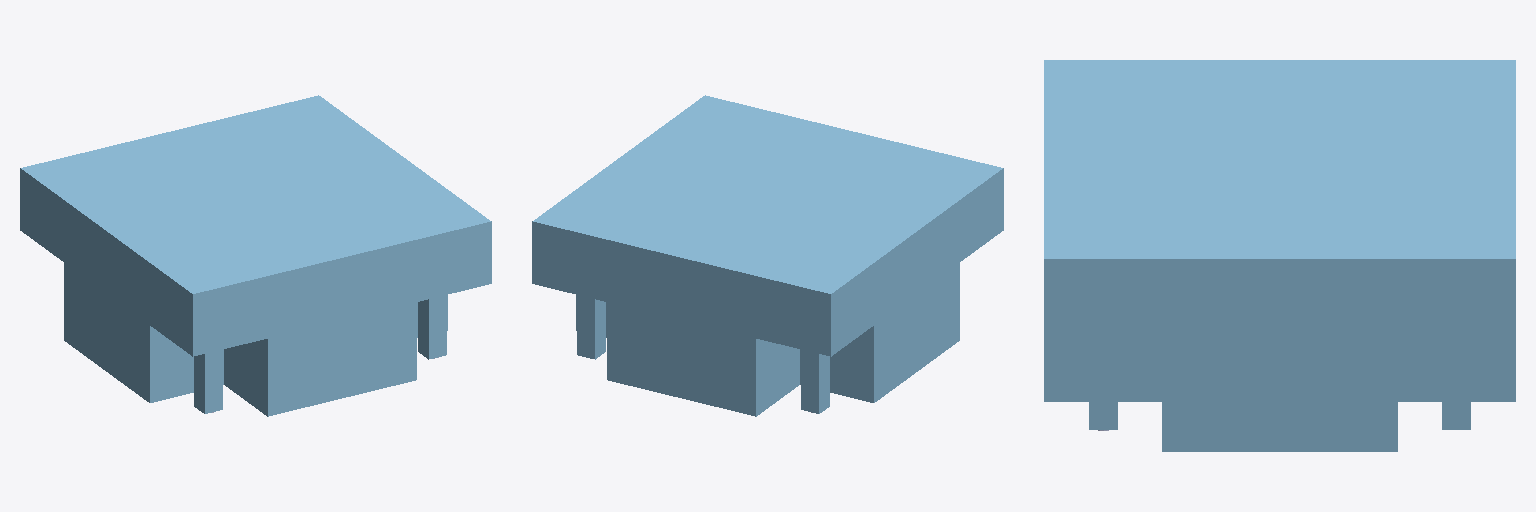
URDF robot description (mobile_base):
<?xml version="1.0" encoding="utf-8"?>
<!-- This URDF was automatically created by SolidWorks to URDF Exporter! Originally created by [author] ([email redacted]) 
     Commit Version: 1.6.0-4-g7f85cfe  Build Version: 1.6.7995.38578
     For more information, please see http://wiki.ros.org/sw_urdf_exporter -->
<robot
  name="mobile_base">
  <link
    name="base_link"> 
    <inertial>
      <origin
        xyz="0 0 0.3"
        rpy="0 0 0" />
      <mass
        value="100"/>
      <inertia
        ixx="10"
        ixy="0.0"
        ixz="0.0"
        iyy="10"
        iyz="0.0"
        izz="10" />
    </inertial>
    <visual>
      <origin
        xyz="0 0 0.3"
        rpy="0 0 0" />
      <geometry>
        <mesh
          filename="package://mobile_base/meshes/base_link.STL" />
      </geometry>
      <material
        name="">
        <color
          rgba="0.615686274509804 0.811764705882353 0.929411764705882 1" />
      </material>
    </visual>
    <collision>
      <origin
        xyz="0 0 0.3"
        rpy="0 0 0" />
      <geometry>
        <mesh
          filename="package://mobile_base/meshes/base_link.STL" />
      </geometry>
    </collision>
  </link>
  <link
    name="f_l_prismatic">
    <inertial>
      <origin
        xyz="-0.3 -0.3 0.107"
        rpy="0 0 0" />
      <mass
        value="0.63" />
      <inertia
        ixx="0.0"
        ixy="0.0"
        ixz="0.0"
        iyy="0.0"
        iyz="0.0"
        izz="0.0" />
    </inertial>
    <visual>
      <origin
        xyz="-0.3 -0.3 0.107"
        rpy="0 0 0" />
      <geometry>
        <mesh
          filename="package://mobile_base/meshes/f_l_prismatic.STL" />
      </geometry>
      <material
        name="">
        <color
          rgba="0.792156862745098 0.819607843137255 0.933333333333333 1" />
      </material>
    </visual>
    <collision>
      <origin
        xyz="-0.3 -0.3 0.107"
        rpy="0 0 0" />
      <geometry>
        <mesh
          filename="package://mobile_base/meshes/f_l_prismatic.STL" />
      </geometry>
    </collision>
  </link>
  <joint
    name="f_l_prismatic_joint"
    type="prismatic">
    <origin
      xyz="0.3 0.3 0.3"
      rpy="0 0 0" />
    <parent
      link="base_link" />
    <child
      link="f_l_prismatic" />
    <axis
      xyz="0 0 1" />
    <limit
      lower="-0.25"
      upper="0.2"
      effort="100000"
      velocity="100" />
    
  </joint>
  <link
    name="f_l_rotate">
    <inertial>
      <origin
        xyz="0 5.55111512312578E-17 -0.0361269533146127"
        rpy="0 0 0" />
      <mass
        value="0.35" />
      <inertia
        ixx="01"
        ixy="0.0"
        ixz="0.0"
        iyy="1"
        iyz="0.0"
        izz="0.0" />
    </inertial>
    <visual>
      <origin
        xyz="0 0 0"
        rpy="0 0 0" />
      <geometry>
        <mesh
          filename="package://mobile_base/meshes/f_l_rotate.STL" />
      </geometry>
      <material
        name="">
        <color
          rgba="0.615686274509804 0.811764705882353 0.929411764705882 1" />
      </material>
    </visual>
    <collision>
      <origin
        xyz="0 0 0"
        rpy="0 0 0" />
      <geometry>
        <mesh
          filename="package://mobile_base/meshes/f_l_rotate.STL" />
      </geometry>
    </collision>
  </link>
  <joint
    name="f_l_rotate_joint"
    type="continuous">
    <origin
      xyz="0 0 -0.012485"
      rpy="0 0 0" />
    <parent
      link="f_l_prismatic" />
    <child
      link="f_l_rotate" />
    <axis
      xyz="0 0 1" />
    <limit
      
      effort="100"
      velocity="100" />
  </joint>
  <link
    name="f_l_ew">
    <inertial>
      <origin
        xyz="0 -2.77555756156289E-17 0"
        rpy="0 0 0" />
      <mass
        value="1.89" />
      <inertia
        ixx="018"
        ixy="0.01"
        ixz="0.17"
        iyy="0.34"
        iyz="0.01"
        izz="0.18" />
    </inertial>
    <visual>
      <origin
        xyz="0 0 0"
        rpy="0 0 0" />
      <geometry>
        <mesh
          filename="package://mobile_base/meshes/f_l_ew.STL" />
      </geometry>
      <material
        name="">
        <color
          rgba="0.615686274509804 0.811764705882353 0.929411764705882 1" />
      </material>
    </visual>
    <collision>
      <origin
        xyz="0 0 0"
        rpy="0 0 0" />
      <geometry>
        <mesh
          filename="package://mobile_base/meshes/f_l_ew.STL" />
      </geometry>
    </collision>
  </link>
  <joint
    name="f_l_ew_joint"
    type="continuous">
    <origin
      xyz="0 0 -0.087515"
      rpy="-1.5708 0 0" />
    <parent
      link="f_l_rotate" />
    <child
      link="f_l_ew" />
    <axis
      xyz="0 0 1" />
  </joint>
  <link
    name="r_l_prismatic">
    <inertial>
      <origin
        xyz="0.3 -0.3 0.046"
        rpy="0 0 0" />
      <mass
        value="0.63" />
      <inertia
        ixx="0.0"
        ixy="0.0"
        ixz="0.0"
        iyy="0.0"
        iyz="0.0"
        izz="0.0" />
    </inertial>
    <visual>
      <origin
        xyz="0.3 -0.3 0.046"
        rpy="0 0 0" />
      <geometry>
        <mesh
          filename="package://mobile_base/meshes/r_l_prismatic.STL" />
      </geometry>
      <material
        name="">
        <color
          rgba="0.792156862745098 0.819607843137255 0.933333333333333 1" />
      </material>
    </visual>
    <collision>
      <origin
        xyz="0.3 -0.3 0.046"
        rpy="0 0 0" />
      <geometry>
        <mesh
          filename="package://mobile_base/meshes/r_l_prismatic.STL" />
      </geometry>
    </collision>
  </link>
  <joint
    name="r_l_prismatic_joint"
    type="prismatic">
    <origin
      xyz="-0.3 0.3 0.3"
      rpy="0 0 0" />
    <parent
      link="base_link" />
    <child
      link="r_l_prismatic" />
    <axis
      xyz="0 0 1" />
    <limit
      lower="-0.25"
      upper="0.2"
      effort="100000"
      velocity="100" />
    
  </joint>
  <link
    name="r_l_rotate">
    <inertial>
      <origin
        xyz="0 0 0.0219977106357566"
        rpy="0 0 0" />
      <mass
        value="0.35" />
      <inertia
        ixx="01"
        ixy="0.0"
        ixz="0.0"
        iyy="1"
        iyz="0.0"
        izz="0.0" />
    </inertial>
    <visual>
      <origin
        xyz="0 0 0"
        rpy="0 0 0" />
      <geometry>
        <mesh
          filename="package://mobile_base/meshes/r_l_rotate.STL" />
      </geometry>
      <material
        name="">
        <color
          rgba="0.615686274509804 0.811764705882353 0.929411764705882 1" />
      </material>
    </visual>
    <collision>
      <origin
        xyz="0 0 0"
        rpy="0 0 0" />
      <geometry>
        <mesh
          filename="package://mobile_base/meshes/r_l_rotate.STL" />
      </geometry>
    </collision>
  </link>
  <joint
    name="r_l_rotate_joint"
    type="continuous">
    <origin
      xyz="0 0 -0.0706097590252183"
      rpy="0 0 0" />
    <parent
      link="r_l_prismatic" />
    <child
      link="r_l_rotate" />
    <axis
      xyz="0 0 1" />
    <limit
      effort="100"
      velocity="100" />
  </joint>
  <link
    name="r_l_ew">
    <inertial>
      <origin
        xyz="0 0 0"
        rpy="0 0 0" />
      <mass
        value="1.89" />
      <inertia
        ixx="018"
        ixy="0.01"
        ixz="0.17"
        iyy="0.34"
        iyz="0.01"
        izz="0.18" />
    </inertial>
    <visual>
      <origin
        xyz="0 0 0"
        rpy="0 0 0" />
      <geometry>
        <mesh
          filename="package://mobile_base/meshes/r_l_ew.STL" />
      </geometry>
      <material
        name="">
        <color
          rgba="0.615686274509804 0.811764705882353 0.929411764705882 1" />
      </material>
    </visual>
    <collision>
      <origin
        xyz="0 0 0"
        rpy="0 0 0" />
      <geometry>
        <mesh
          filename="package://mobile_base/meshes/r_l_ew.STL" />
      </geometry>
    </collision>
  </link>
  <joint
    name="r_l_ew_joint"
    type="continuous">
    <origin
      xyz="0 0 -0.02939"
      rpy="-1.5708 0 0" />
    <parent
      link="r_l_rotate" />
    <child
      link="r_l_ew" />
    <axis
      xyz="0 0 -1" />
  </joint>
  <link
    name="r_r_prismatic">
    <inertial>
      <origin
        xyz="0.3 0.3 0.044"
        rpy="0 0 0" />
      <mass
        value="0.63" />
      <inertia
        ixx="0.0"
        ixy="0.0"
        ixz="0.0"
        iyy="0.0"
        iyz="0.0"
        izz="0.0" />
    </inertial>
    <visual>
      <origin
        xyz="0.3 0.3 0.044"
        rpy="0 0 0" />
      <geometry>
        <mesh
          filename="package://mobile_base/meshes/r_r_prismatic.STL" />
      </geometry>
      <material
        name="">
        <color
          rgba="0.792156862745098 0.819607843137255 0.933333333333333 1" />
      </material>
    </visual>
    <collision>
      <origin
        xyz="0.3 0.3 0.044"
        rpy="0 0 0" />
      <geometry>
        <mesh
          filename="package://mobile_base/meshes/r_r_prismatic.STL" />
      </geometry>
    </collision>
  </link>
  <joint
    name="r_r_prismatic_joint"
    type="prismatic">
    <origin
      xyz="-0.3 -0.3 0.3"
      rpy="0 0 0" />
    <parent
      link="base_link" />
    <child
      link="r_r_prismatic" />
    <axis
      xyz="0 0 1" />
    <limit
      lower="-0.25"
      upper="0.2"
      effort="100000"
      velocity="100" />
    
  </joint>
  <link
    name="r_r_rotate">
    <inertial>
      <origin
        xyz="1.66533453693773E-16 1.11022302462516E-16 -0.0100719274166877"
        rpy="0 0 0" />
      <mass
        value="0.35" />
      <inertia
        ixx="01"
        ixy="0.0"
        ixz="0.0"
        iyy="1"
        iyz="0.0"
        izz="0.0" />
    </inertial>
    <visual>
      <origin
        xyz="0 0 0"
        rpy="0 0 0" />
      <geometry>
        <mesh
          filename="package://mobile_base/meshes/r_r_rotate.STL" />
      </geometry>
      <material
        name="">
        <color
          rgba="0.615686274509804 0.811764705882353 0.929411764705882 1" />
      </material>
    </visual>
    <collision>
      <origin
        xyz="0 0 0"
        rpy="0 0 0" />
      <geometry>
        <mesh
          filename="package://mobile_base/meshes/r_r_rotate.STL" />
      </geometry>
    </collision>
  </link>
  <joint
    name="r_r_rotate_joint"
    type="continuous">
    <origin
      xyz="0 0 -0.03854"
      rpy="0 0 0" />
    <parent
      link="r_r_prismatic" />
    <child
      link="r_r_rotate" />
    <axis
      xyz="0 0 1" />
    <limit
     
      effort="100"
      velocity="100" />
  </joint>
  <link
    name="r_r_ew">
    <inertial>
      <origin
        xyz="0 2.77555756156289E-17 0"
        rpy="0 0 0" />
      <mass
        value="1.89" />
      <inertia
        ixx="018"
        ixy="0.01"
        ixz="0.17"
        iyy="0.34"
        iyz="0.01"
        izz="0.18" />
    </inertial>
    <visual>
      <origin
        xyz="0 0 0"
        rpy="0 0 0" />
      <geometry>
        <mesh
          filename="package://mobile_base/meshes/r_r_ew.STL" />
      </geometry>
      <material
        name="">
        <color
          rgba="0.615686274509804 0.811764705882353 0.929411764705882 1" />
      </material>
    </visual>
    <collision>
      <origin
        xyz="0 0 0"
        rpy="0 0 0" />
      <geometry>
        <mesh
          filename="package://mobile_base/meshes/r_r_ew.STL" />
      </geometry>
    </collision>
  </link>
  <joint
    name="r_r_ew_joint"
    type="continuous">
    <origin
      xyz="0 0 -0.06146"
      rpy="-1.5708 0 0" />
    <parent
      link="r_r_rotate" />
    <child
      link="r_r_ew" />
    <axis
      xyz="0 0 -1" />
  </joint>
  <link
    name="f_r_prismatic">
    <inertial>
      <origin
        xyz="-0.3 0.3 0.137"
        rpy="0 0 0" />
      <mass
        value="0.63" />
      <inertia
        ixx="0.0"
        ixy="0.0"
        ixz="0.0"
        iyy="0.0"
        iyz="0.0"
        izz="0.0" />
    </inertial>
    <visual>
      <origin
        xyz="-0.3 0.3 0.137"
        rpy="0 0 0" />
      <geometry>
        <mesh
          filename="package://mobile_base/meshes/f_r_prismatic.STL" />
      </geometry>
      <material
        name="">
        <color
          rgba="0.792156862745098 0.819607843137255 0.933333333333333 1" />
      </material>
    </visual>
    <collision>
      <origin
        xyz="-0.3 0.3 0.137"
        rpy="0 0 0" />
      <geometry>
        <mesh
          filename="package://mobile_base/meshes/f_r_prismatic.STL" />
      </geometry>
    </collision>
  </link>
  <joint
    name="f_r_prismatic_joint"
    type="prismatic">
    <origin
      xyz="0.3 -0.3 0.3"
      rpy="0 0 0" />
    <parent
      link="base_link" />
    <child
      link="f_r_prismatic" />
    <axis
      xyz="0 0 1" />
    <limit
      lower="-0.25"
      upper="0.2"
      effort="100000"
      velocity="100" />
    
  </joint>
  <link
    name="f_r_rotate">
    <inertial>
      <origin
        xyz="-1.66533453693773E-16 1.11022302462516E-16 0.158278966866196"
        rpy="0 0 0" />
      <mass
        value="1.89" />
      <inertia
        ixx="018"
        ixy="0.01"
        ixz="0.17"
        iyy="0.34"
        iyz="0.01"
        izz="0.18" />
    </inertial>
    <visual>
      <origin
        xyz="0 0 0"
        rpy="0 0 0" />
      <geometry>
        <mesh
          filename="package://mobile_base/meshes/f_r_rotate.STL" />
      </geometry>
      <material
        name="">
        <color
          rgba="0.615686274509804 0.811764705882353 0.929411764705882 1" />
      </material>
    </visual>
    <collision>
      <origin
        xyz="0 0 0"
        rpy="0 0 0" />
      <geometry>
        <mesh
          filename="package://mobile_base/meshes/f_r_rotate.STL" />
      </geometry>
    </collision>
  </link>
  <joint
    name="f_r_rotate_joint"
    type="continuous">
    <origin
      xyz="0 0 -0.206891015255658"
      rpy="0 0 0" />
    <parent
      link="f_r_prismatic" />
    <child
      link="f_r_rotate" />
    <axis
      xyz="0 0 1" />
    <limit
     
      effort="100"
      velocity="100" />
  </joint>
  <link
    name="f_r_ew">
    <inertial>
      <origin
        xyz="0 0 0"
        rpy="0 0 0" />
      <mass
        value="1.89" />
      <inertia
        ixx="018"
        ixy="0.01"
        ixz="0.17"
        iyy="0.34"
        iyz="0.01"
        izz="0.18" />
    </inertial>
    <visual>
      <origin
        xyz="0 0 0"
        rpy="0 0 0" />
      <geometry>
        <mesh
          filename="package://mobile_base/meshes/f_r_ew.STL" />
      </geometry>
      <material
        name="">
        <color
          rgba="0.615686274509804 0.811764705882353 0.929411764705882 1" />
      </material>
    </visual>
    <collision>
      <origin
        xyz="0 0 0"
        rpy="0 0 0" />
      <geometry>
        <mesh
          filename="package://mobile_base/meshes/f_r_ew.STL" />
      </geometry>
    </collision>
  </link>
  <joint
    name="f_r_ew_joint"
    type="continuous">
    <origin
      xyz="0 0 0.106891015255658"
      rpy="-1.5707963267949 0 0" />
    <parent
      link="f_r_rotate" />
    <child
      link="f_r_ew" />
    <axis
      xyz="0 0 -1" />
  </joint>

  <transmission name="f_l_ew_trans">
    <type>transmission_interface/SimpleTransmission</type>
    <joint name="f_l_ew_joint">
      <hardwareInterface>hardware_interface/VelocityJointInterface</hardwareInterface>
    </joint>
    <actuator name="f_l_ew_motor">
      <hardwareInterface>hardware_interface/VelocityJointInterface</hardwareInterface>
      <mechanicalReduction>1</mechanicalReduction>
    </actuator>
  </transmission>
  
  <transmission name="f_r_ew_trans">
    <type>transmission_interface/SimpleTransmission</type>
    <joint name="f_r_ew_joint">
      <hardwareInterface>hardware_interface/VelocityJointInterface</hardwareInterface>
    </joint>
    <actuator name="f_r_ew_motor">
      <hardwareInterface>hardware_interface/VelocityJointInterface</hardwareInterface>
      <mechanicalReduction>1</mechanicalReduction>
    </actuator>
  </transmission>
  
  <transmission name="r_l_ew_trans">
    <type>transmission_interface/SimpleTransmission</type>
    <joint name="r_l_ew_joint">
      <hardwareInterface>hardware_interface/VelocityJointInterface</hardwareInterface>
    </joint>
    <actuator name="r_l_ew_motor">
      <hardwareInterface>hardware_interface/VelocityJointInterface</hardwareInterface>
      <mechanicalReduction>1</mechanicalReduction>
    </actuator>
  </transmission>
  
  <transmission name="r_r_ew_trans">
    <type>transmission_interface/SimpleTransmission</type>
    <joint name="r_r_ew_joint">
      <hardwareInterface>hardware_interface/VelocityJointInterface</hardwareInterface>
    </joint>
    <actuator name="r_r_ew_motor">
      <hardwareInterface>hardware_interface/VelocityJointInterface</hardwareInterface>
      <mechanicalReduction>1</mechanicalReduction>
    </actuator>
  </transmission>

  <!--  -->
  <transmission name="f_l_rotate_trans">
    <type>transmission_interface/SimpleTransmission</type>
    <joint name="f_l_rotate_joint">
      <hardwareInterface>hardware_interface/VelocityJointInterface</hardwareInterface>
    </joint>
    <actuator name="f_l_rotate_motor">
      <hardwareInterface>hardware_interface/VelocityJointInterface</hardwareInterface>
      <mechanicalReduction>1</mechanicalReduction>
    </actuator>
  </transmission>
  
  <transmission name="f_r_rotate_trans">
    <type>transmission_interface/SimpleTransmission</type>
    <joint name="f_r_rotate_joint">
      <hardwareInterface>hardware_interface/VelocityJointInterface</hardwareInterface>
    </joint>
    <actuator name="f_r_rotate_motor">
      <hardwareInterface>hardware_interface/VelocityJointInterface</hardwareInterface>
      <mechanicalReduction>1</mechanicalReduction>
    </actuator>
  </transmission>
  
  <transmission name="r_l_rotate_trans">
    <type>transmission_interface/SimpleTransmission</type>
    <joint name="r_l_rotate_joint">
      <hardwareInterface>hardware_interface/VelocityJointInterface</hardwareInterface>
    </joint>
    <actuator name="r_l_rotate_motor">
      <hardwareInterface>hardware_interface/VelocityJointInterface</hardwareInterface>
      <mechanicalReduction>1</mechanicalReduction>
    </actuator>
  </transmission>
  
  <transmission name="r_r_rotate_trans">
    <type>transmission_interface/SimpleTransmission</type>
    <joint name="r_r_rotate_joint">
      <hardwareInterface>hardware_interface/VelocityJointInterface</hardwareInterface>
    </joint>
    <actuator name="r_r_rotate_motor">
      <hardwareInterface>hardware_interface/VelocityJointInterface</hardwareInterface>
      <mechanicalReduction>1</mechanicalReduction>
    </actuator>
  </transmission>

  <!--  -->
  <transmission name="f_l_prismatic_trans">
    <type>transmission_interface/SimpleTransmission</type>
    <joint name="f_l_prismatic_joint">
      <hardwareInterface>hardware_interface/VelocityJointInterface</hardwareInterface>
    </joint>
    <actuator name="f_l_prismatic_motor">
      <hardwareInterface>hardware_interface/VelocityJointInterface</hardwareInterface>
      <mechanicalReduction>1</mechanicalReduction>
    </actuator>
  </transmission>
  
  <transmission name="f_r_prismatic_trans">
    <type>transmission_interface/SimpleTransmission</type>
    <joint name="f_r_prismatic_joint">
      <hardwareInterface>hardware_interface/VelocityJointInterface</hardwareInterface>
    </joint>
    <actuator name="f_r_prismatic_motor">
      <hardwareInterface>hardware_interface/VelocityJointInterface</hardwareInterface>
      <mechanicalReduction>1</mechanicalReduction>
    </actuator>
  </transmission>
  
  <transmission name="r_l_prismatic_trans">
    <type>transmission_interface/SimpleTransmission</type>
    <joint name="r_l_prismatic_joint">
      <hardwareInterface>hardware_interface/VelocityJointInterface</hardwareInterface>
    </joint>
    <actuator name="r_l_prismatic_motor">
      <hardwareInterface>hardware_interface/VelocityJointInterface</hardwareInterface>
      <mechanicalReduction>1</mechanicalReduction>
    </actuator>
  </transmission>
  
  <transmission name="r_r_prismatic_trans">
    <type>transmission_interface/SimpleTransmission</type>
    <joint name="r_r_prismatic_joint">
      <hardwareInterface>hardware_interface/VelocityJointInterface</hardwareInterface>
    </joint>
    <actuator name="r_r_prismatic_motor">
      <hardwareInterface>hardware_interface/VelocityJointInterface</hardwareInterface>
      <mechanicalReduction>1</mechanicalReduction>
    </actuator>
  </transmission>




  <gazebo>
    <plugin name="gazebo_ros_control" filename="libgazebo_ros_control.so">
     <robotNamespace>/mobile_base</robotNamespace>
     <robotSimType>gazebo_ros_control/DefaultRobotHWSim</robotSimType>
    </plugin>
  </gazebo> 
</robot>

--- Facts derived from the render (not from the file) ---
Views: 3 orthographic renders of the robot side by side, from view 1: azimuth 30°, elevation 25°; view 2: azimuth 150°, elevation 25°; view 3: azimuth 270°, elevation 25°.
Robot: mobile_base — 13 links, 12 joints (8 continuous, 4 prismatic); root link base_link; default pose: every joint at zero.
Links seen in each view (by area): view 1: base_link; view 2: base_link; view 3: base_link.
Link boxes in pixels (x1=…): base_link: x1=20, y1=95, x2=491, y2=416; base_link: x1=532, y1=95, x2=1003, y2=416; base_link: x1=1044, y1=60, x2=1515, y2=451.
Size in the robot's own frame: 0.8 by 0.8 by 0.36 metres.
4 mesh visuals loaded from 13 distinct referenced files (4 binary STL); not drawn: 9 (reference not matched to a file when rendering).